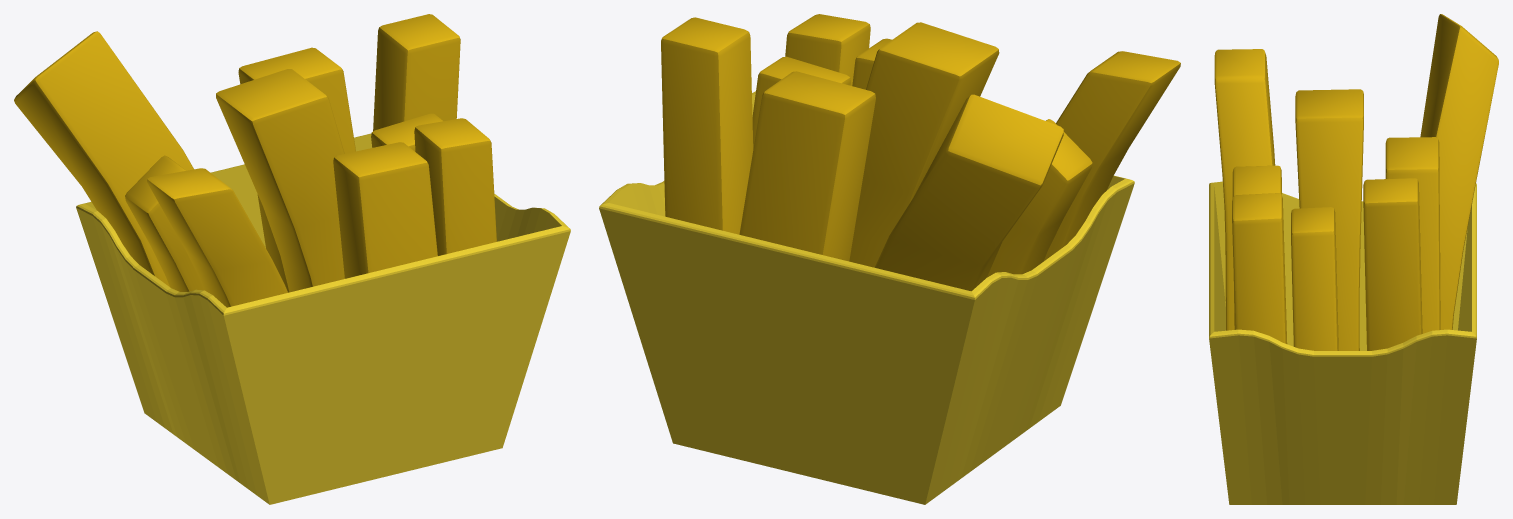
Rendered from potato_full.fbx.
3 renders of one model, left to right at view 1: azimuth 30°, elevation 25°; view 2: azimuth 150°, elevation 25°; view 3: azimuth 270°, elevation 25°, orthographic. The views are drawn at different scales.
Parts seen in each view (by area): view 1: Plane; view 2: Plane; view 3: Plane.
Boxes of the visible parts, x1,y1,x2,y2 form: Plane: (14,14,570,504); Plane: (599,14,1180,504); Plane: (1209,14,1498,504).
Bounding box in the file's own units: 234 × 214 × 158.
